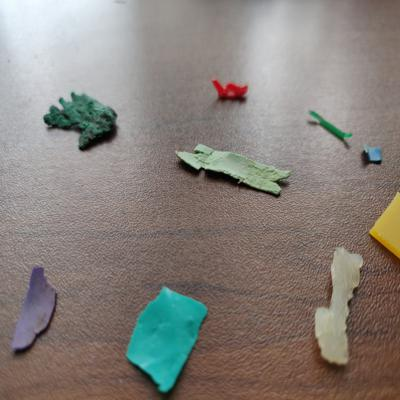plastic: (125, 279, 210, 395), (172, 137, 296, 198), (312, 245, 368, 370), (38, 84, 125, 154), (10, 262, 60, 360), (368, 188, 400, 269), (305, 104, 356, 146), (206, 75, 255, 104), (359, 142, 389, 170)
